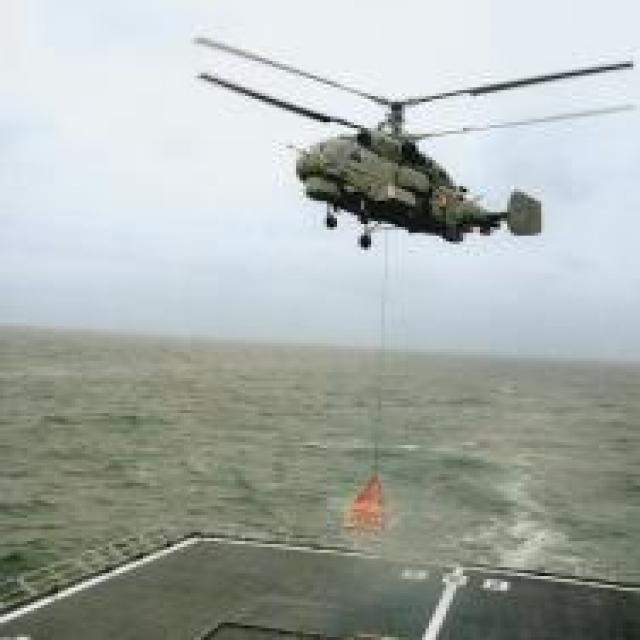MIL_HELO: (156, 26, 640, 258)
